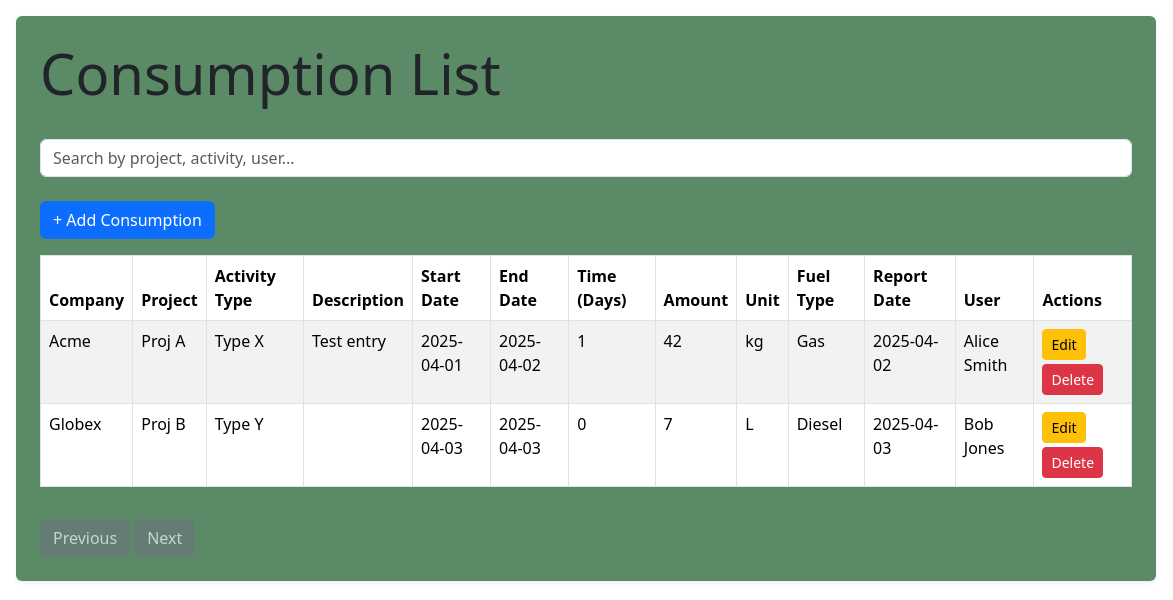
it: ConsumptionList › filters by search term
Expected: the text "Proj A" is shown, [133,321,206,404]
In the field with placeholder "Search by project, activity, user...": (586, 158) [40,139,1132,177], type "Bob"
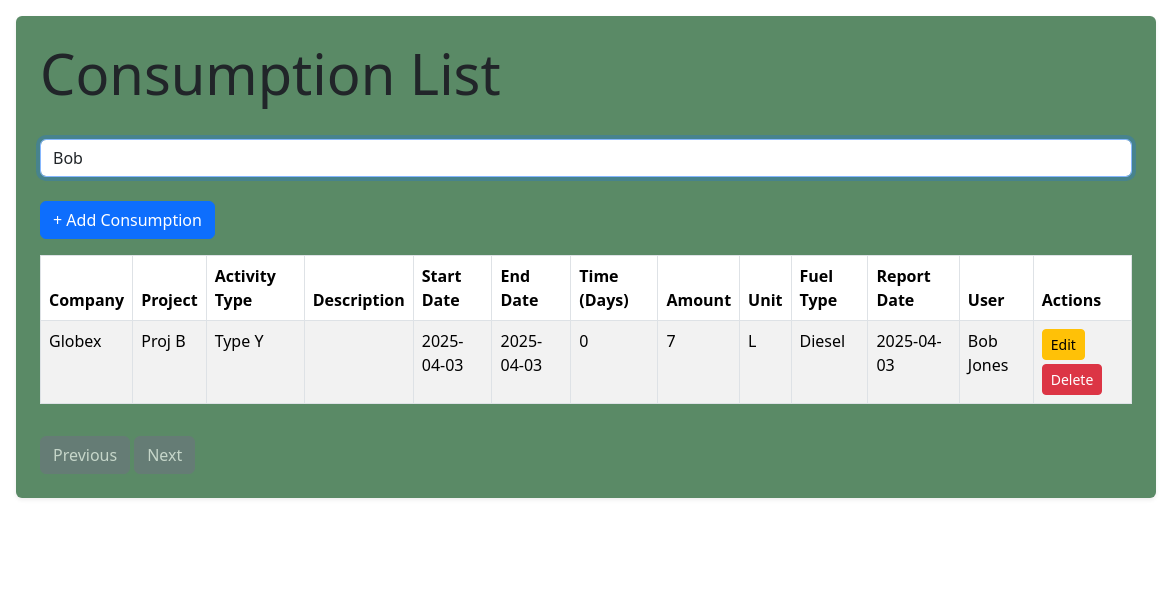
Expected: the text "Proj B" is shown, [133,321,206,404]
Expected: the text "Proj A" is gone
